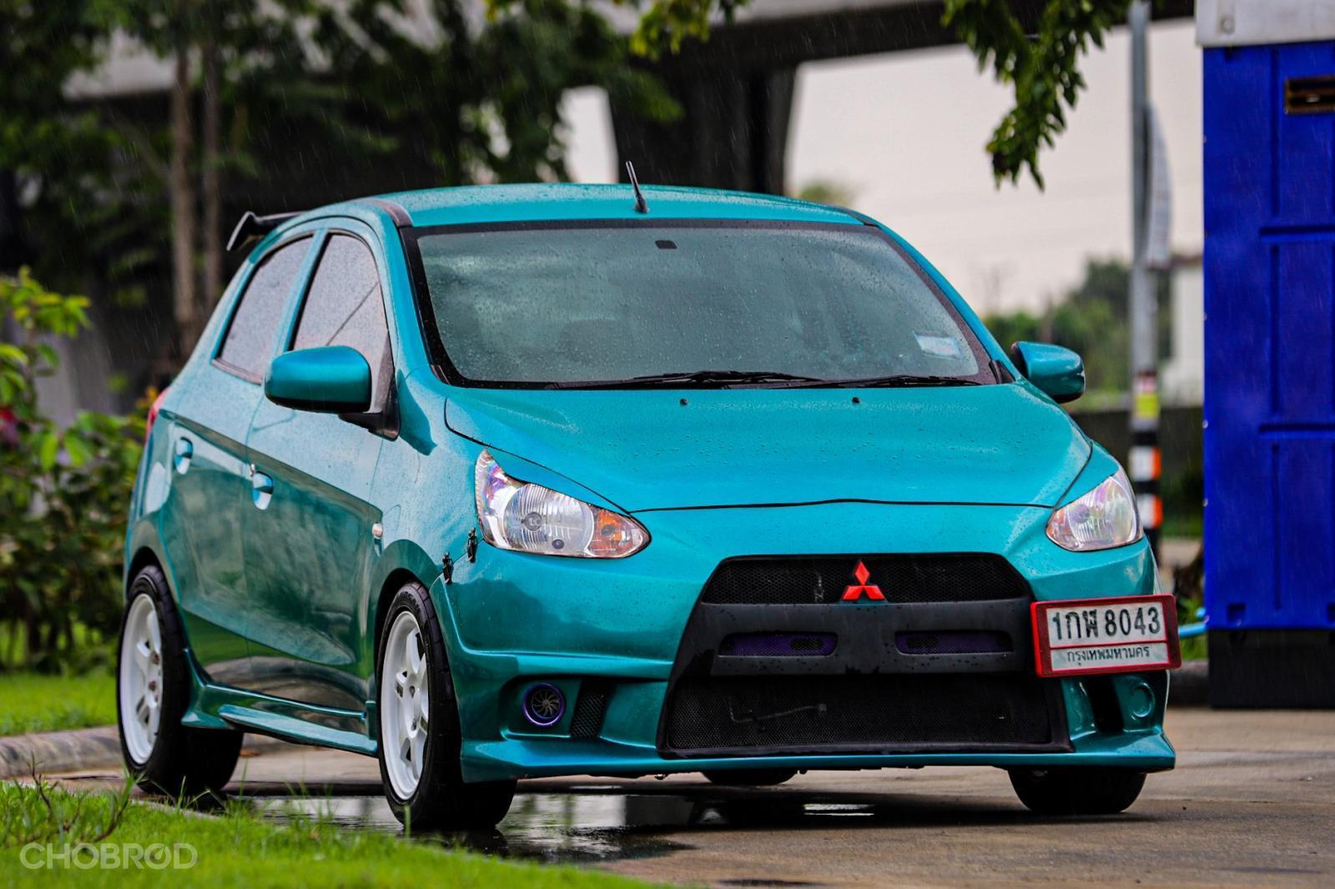license-plate: (1033, 593, 1184, 682)
